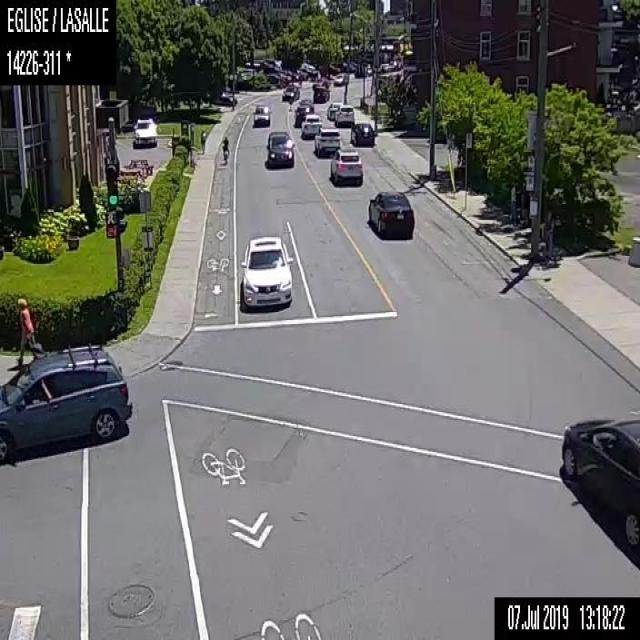cyclist: (221, 135, 228, 165)
pedestrian: (14, 294, 44, 366), (542, 208, 554, 256), (506, 184, 519, 228), (199, 127, 206, 153)
vehicle: (0, 341, 132, 464), (560, 415, 639, 549), (238, 233, 293, 306), (368, 188, 416, 237), (329, 144, 362, 184), (266, 129, 294, 167), (314, 125, 339, 157), (132, 117, 156, 147), (349, 120, 375, 145), (300, 112, 320, 139), (251, 103, 271, 125), (334, 104, 354, 126), (292, 104, 310, 126), (281, 84, 299, 103), (326, 100, 342, 119), (333, 70, 350, 86), (313, 84, 328, 102), (266, 73, 284, 85), (300, 97, 314, 112)
